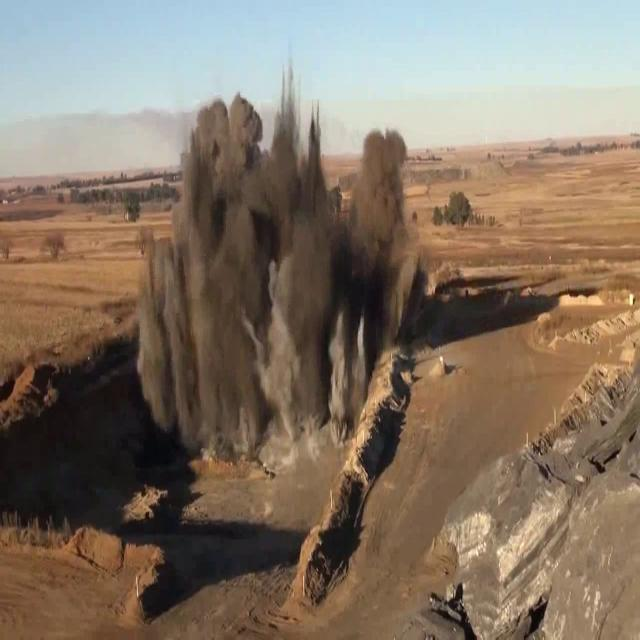explosion: (120, 38, 433, 566)
